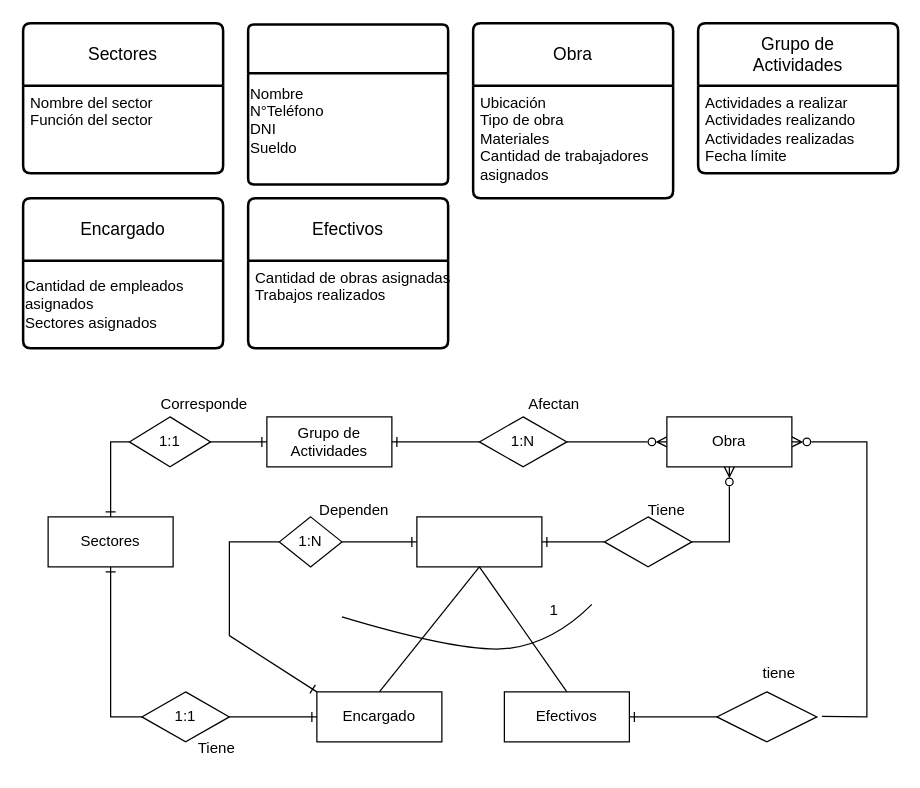
The diagram is 920 pixels wide and 788 high, and some of its shapes have lost their labels. Here are the shapes that lost their labels. From the top down, the box of each, then its label:
(246, 22, 449, 185): Empleado
(416, 516, 542, 567): Empleados
(603, 516, 692, 567): N:1
(716, 691, 817, 742): N:M
